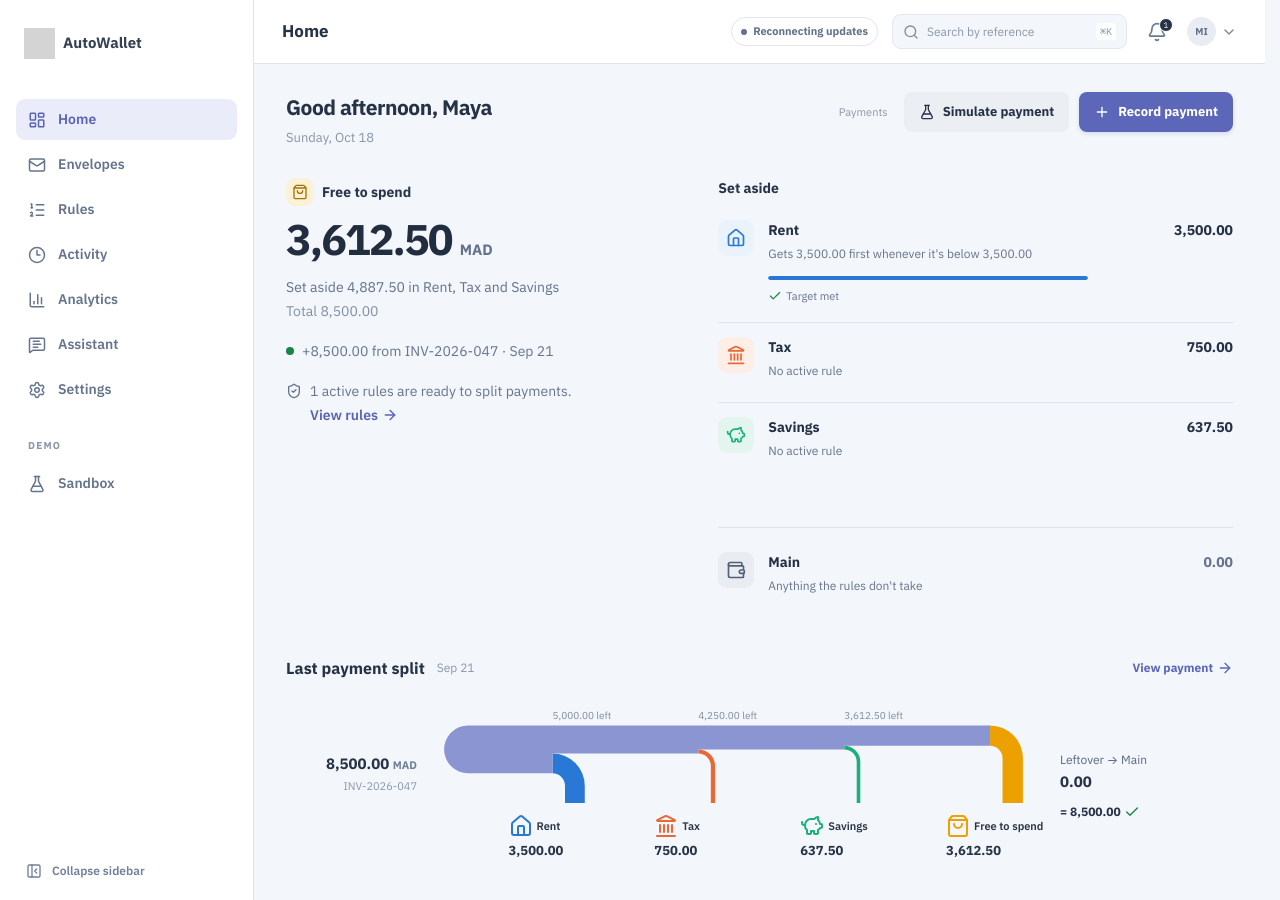
Test: DashboardPage › loads and renders actual wallets, payments, and saved rules
Expected: the heading "Good afternoon, Maya" is shown, [286, 92, 492, 124]
Expected: the heading "Free to spend" is shown, [322, 182, 411, 202]
Step 1. Click the button titled "Rules" → (126, 210), box [16, 189, 237, 230]
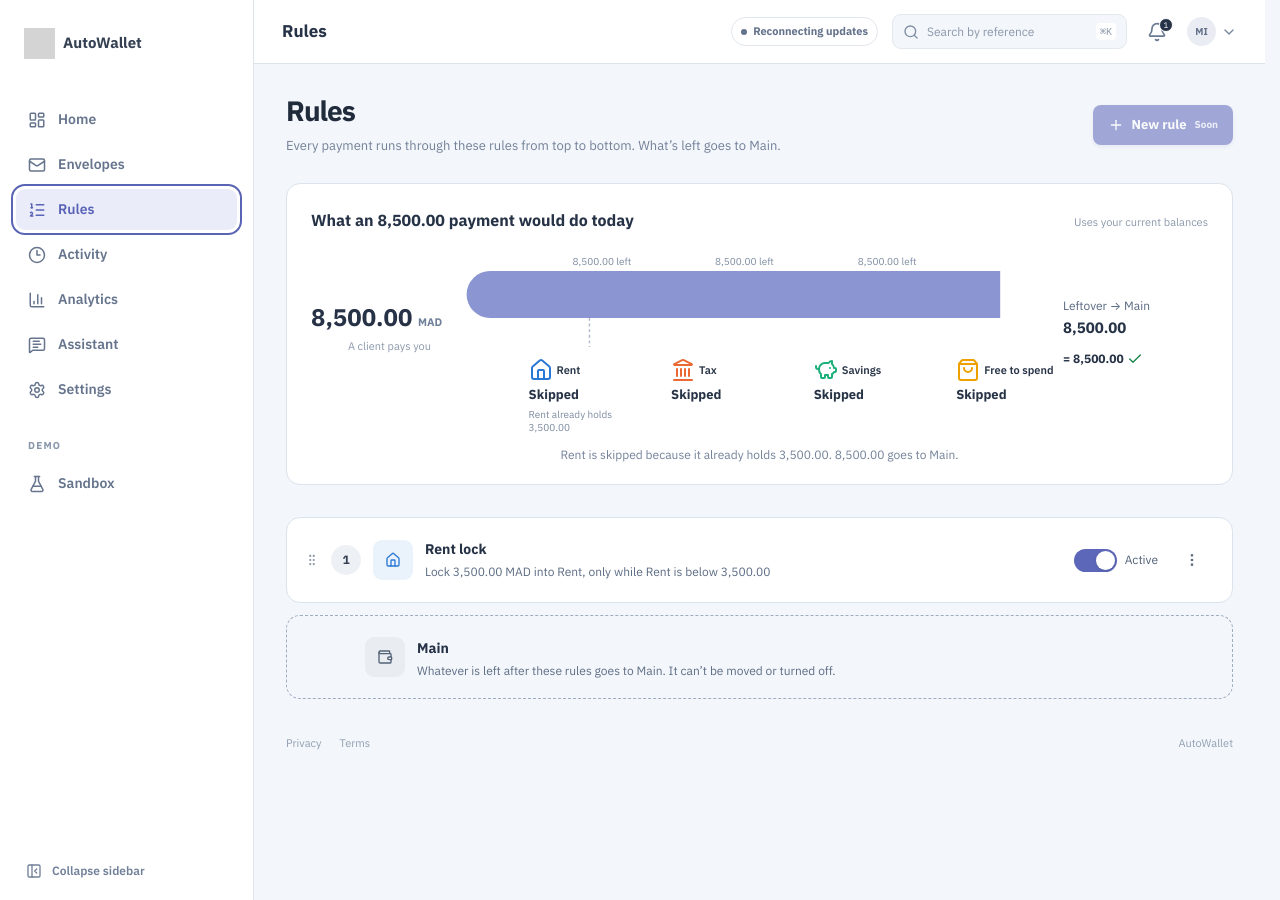
Expected: the heading "Rent lock" is shown, [425, 540, 487, 560]
